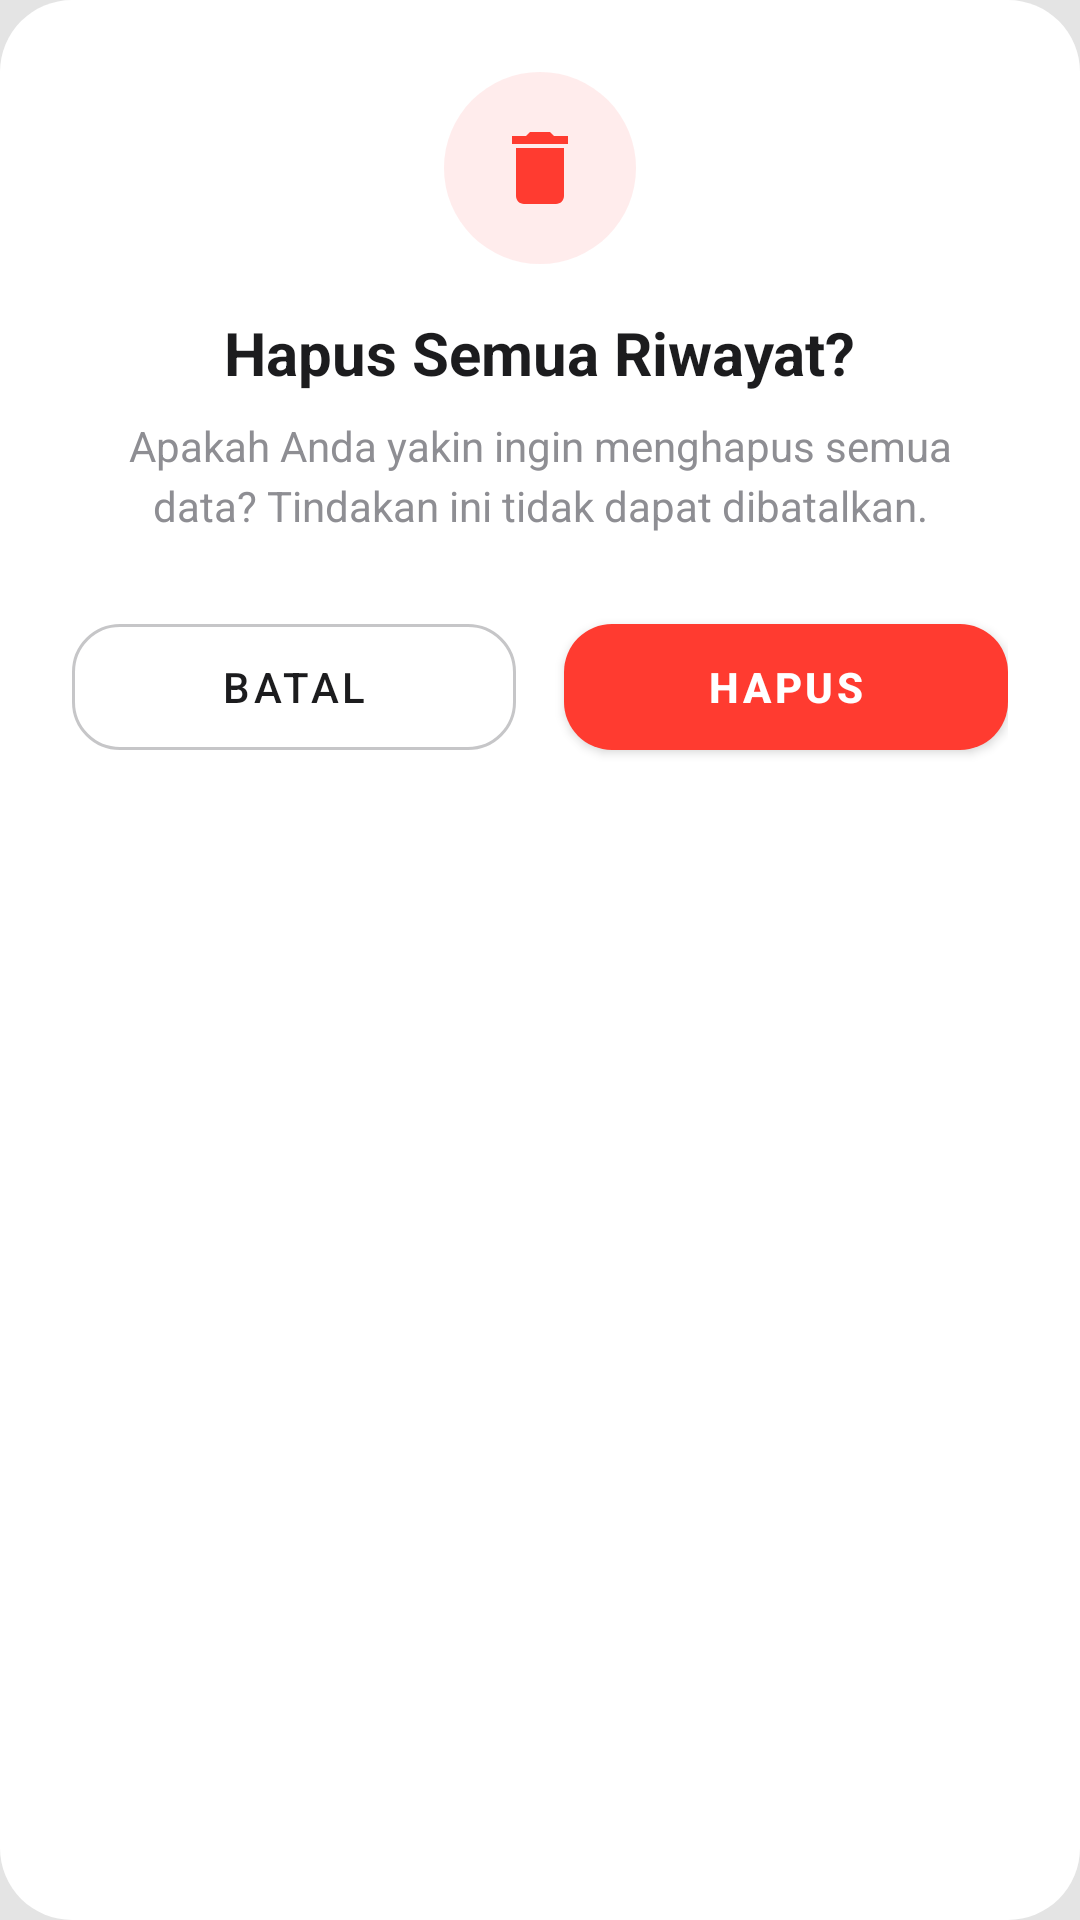

Point at icon controls on the screen. Image size 1080 x 1920, points as [x,y].
delete: [540,168]
